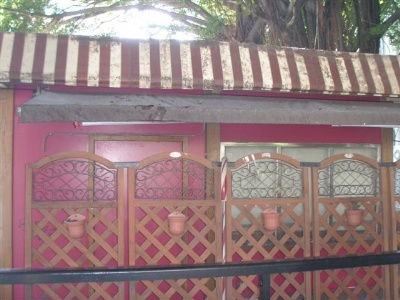bowl: (65, 214, 87, 239), (167, 214, 188, 235), (345, 208, 363, 228), (263, 212, 280, 231)
